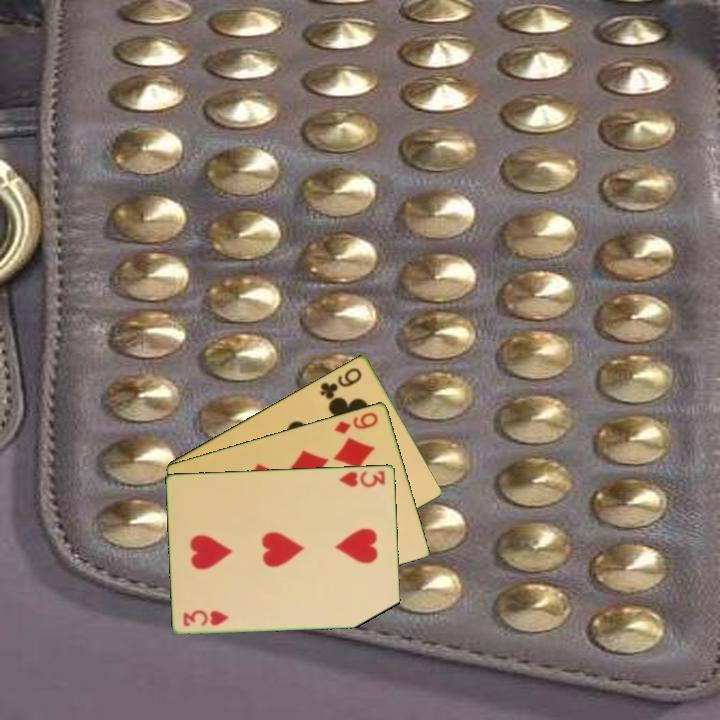3h: (336, 466, 388, 490), (180, 607, 232, 629)
9c: (317, 364, 365, 402)
9d: (330, 408, 381, 436)
